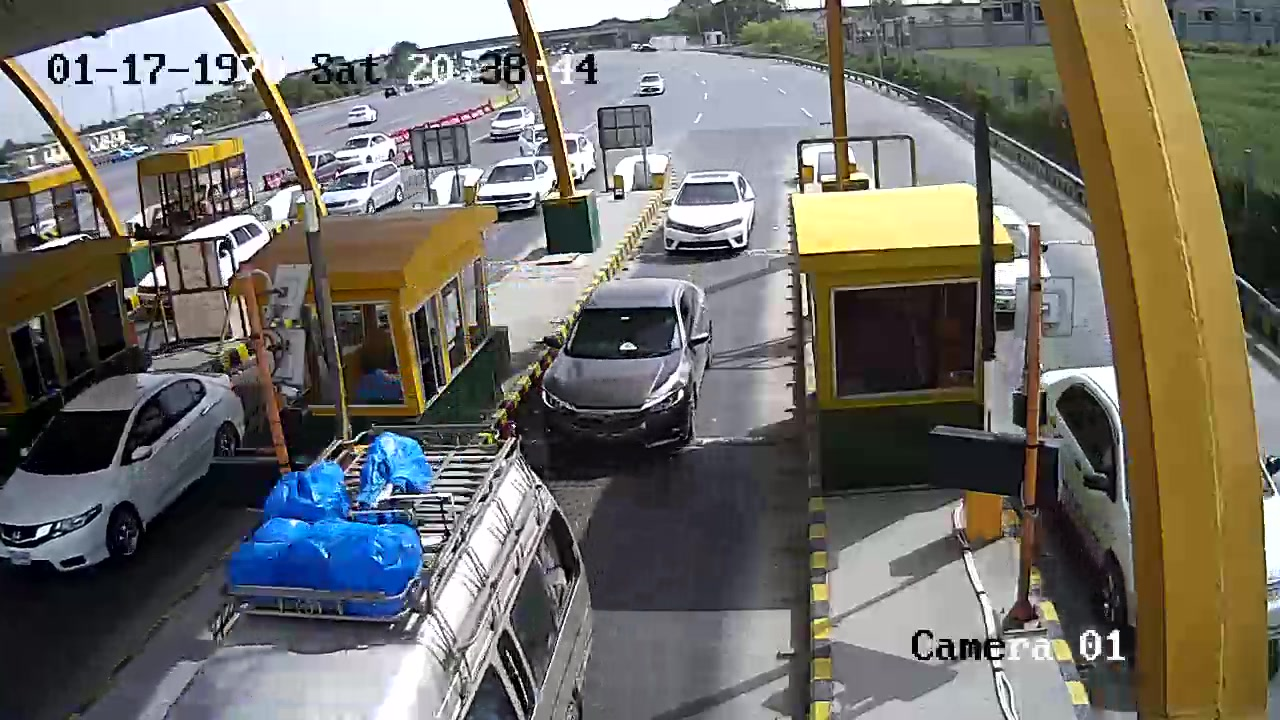F1: (529, 267, 724, 468), (652, 161, 770, 268)
